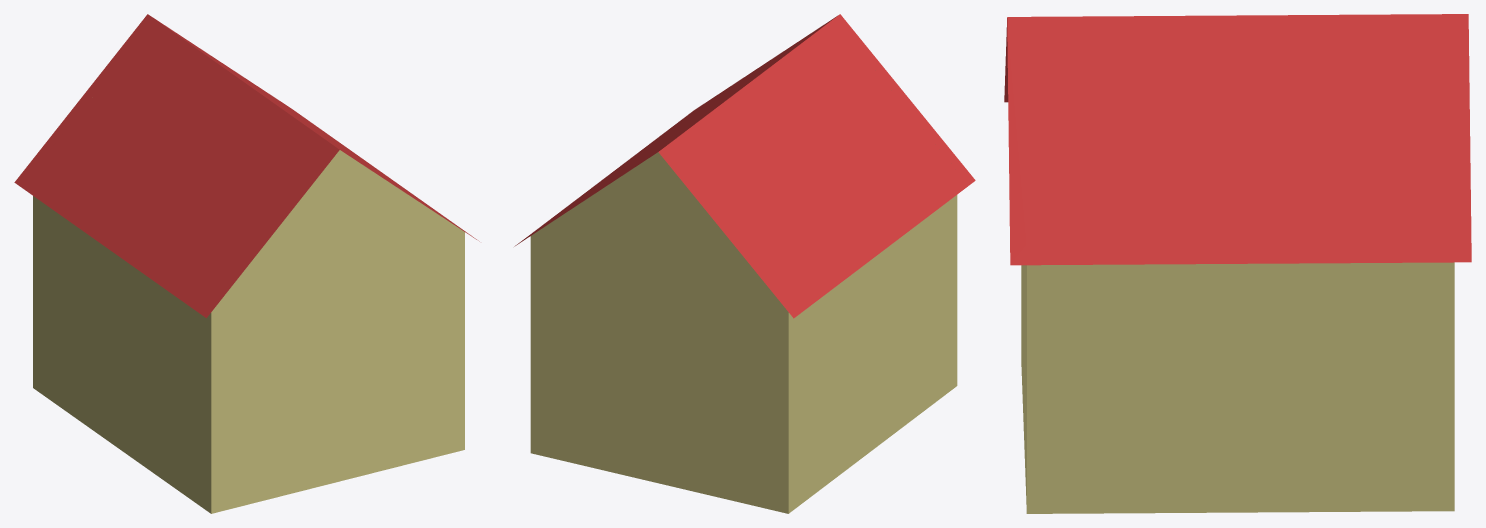
3 views of the same model, side by side, from view 1: azimuth 30°, elevation 25°; view 2: azimuth 150°, elevation 25°; view 3: azimuth 270°, elevation 25° (orthographic). The views are drawn at different scales.
Size of the model in its own units: 12.09 by 13.96 by 13.74.
